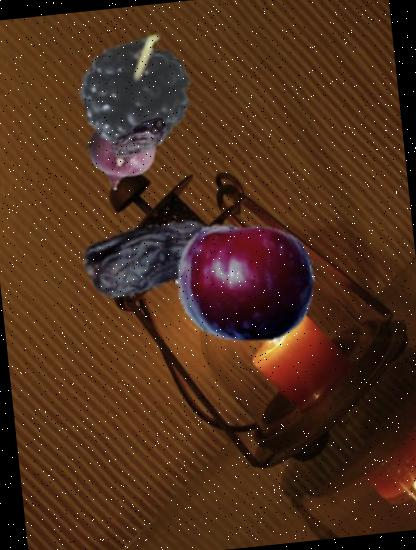Dates: (75, 180, 232, 338), (106, 106, 172, 174)
Mulberry: (59, 29, 212, 182)
Onion: (78, 107, 165, 194)
Plum: (168, 206, 321, 359)
